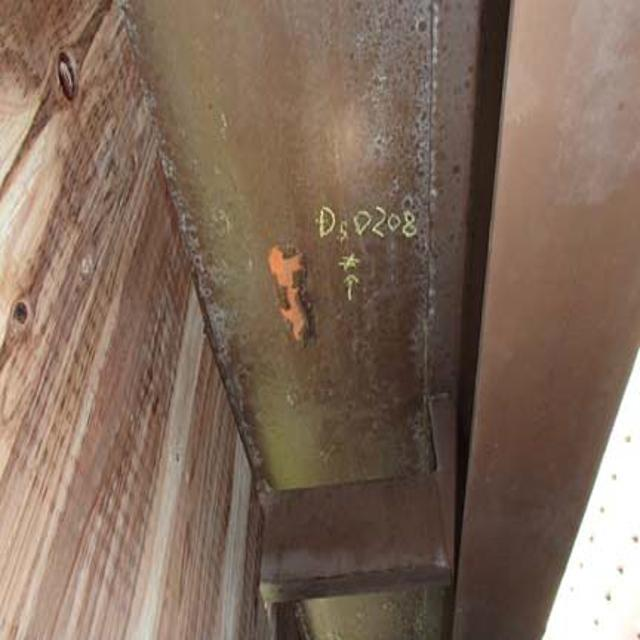corrosion: (241, 233, 316, 351)
